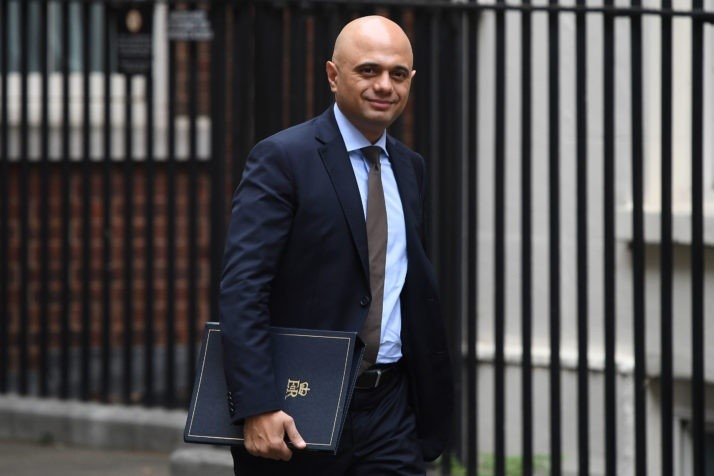face_no_mask: (329, 16, 416, 124)
